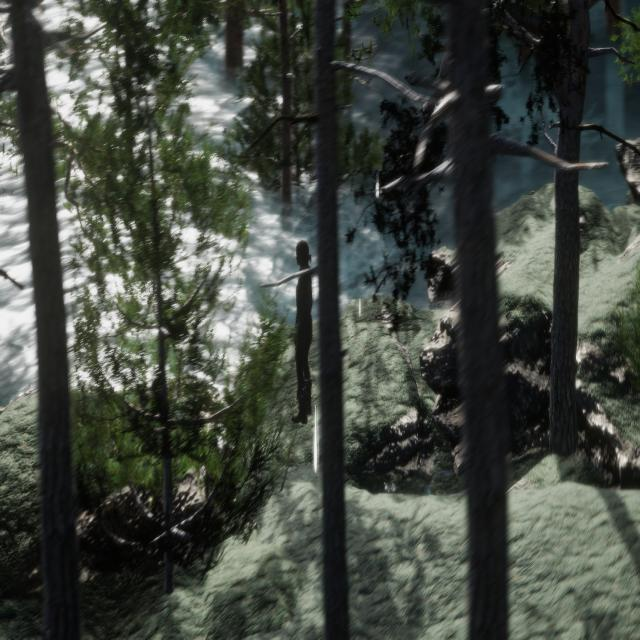Human: (291, 222, 325, 444)
